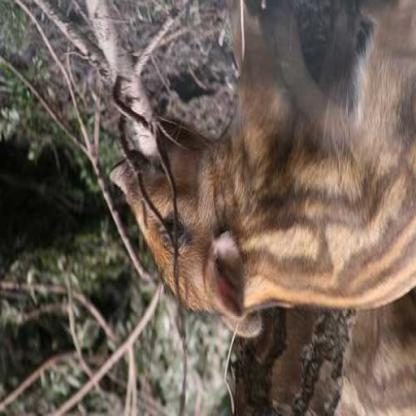boar: (93, 33, 415, 335)
